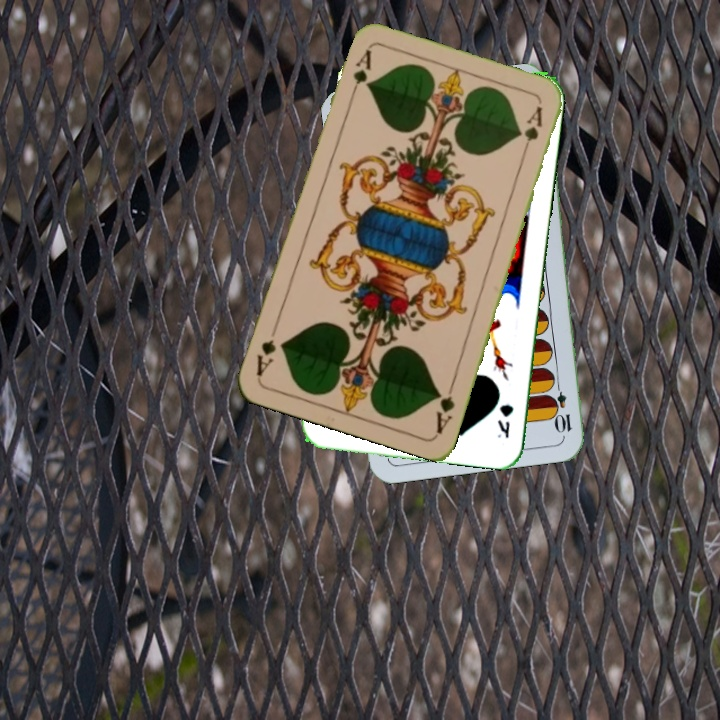E10: (550, 376, 574, 436)
GA: (345, 46, 375, 103), (432, 377, 458, 436)
GK: (493, 400, 516, 441)
